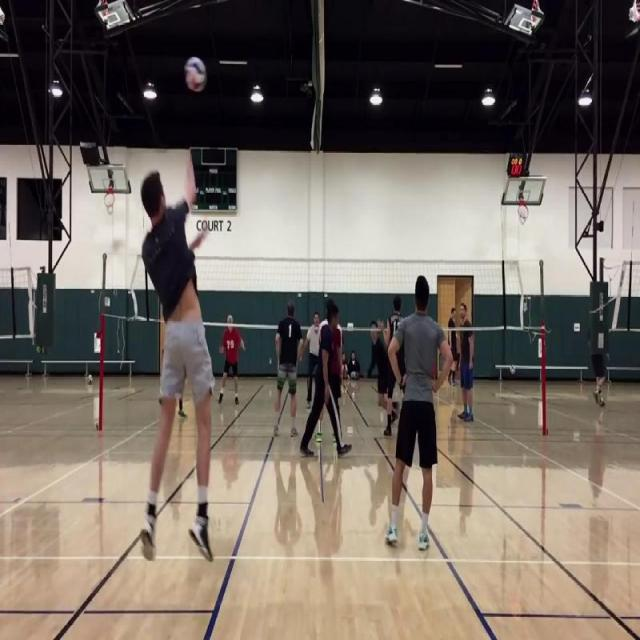volleyball: (185, 56, 207, 92)
